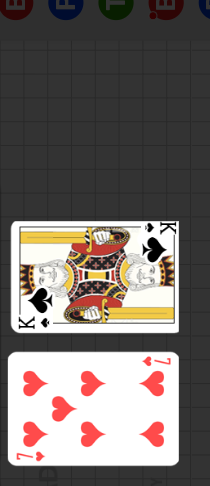7H: (15, 449, 47, 462)
KS: (17, 315, 53, 331)
